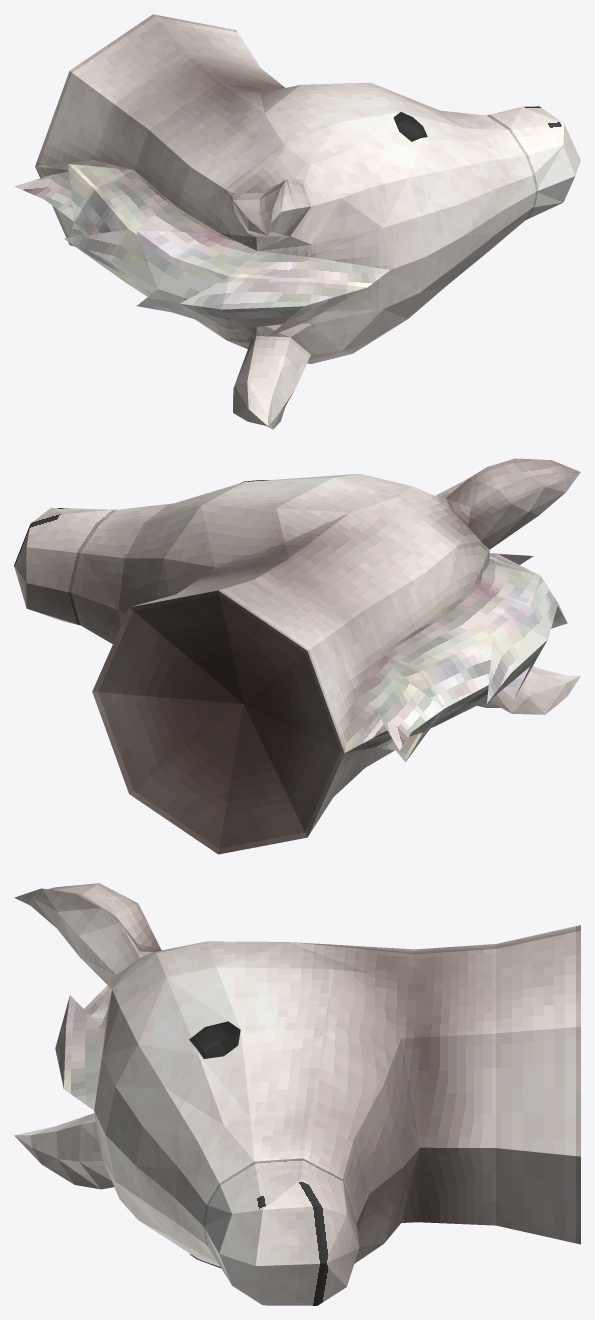
Rendered from options1261.obj.
The picture shows the model from 3 angles, top to bottom: view 1: azimuth 30°, elevation 25°; view 2: azimuth 150°, elevation 25°; view 3: azimuth 270°, elevation 25°; orthographic projection. The views are drawn at different scales.
Parts seen in each view (by area): view 1: options1261; view 2: options1261; view 3: options1261.
Part boxes in pixels (x1,y1,x2,y2): options1261: (14,14,580,429); options1261: (14,458,580,854); options1261: (14,883,580,1305).
Bounding box in the file's own units: 0.9813 × 0.4946 × 0.8248.
Materials: 1 (1 with a texture image).
